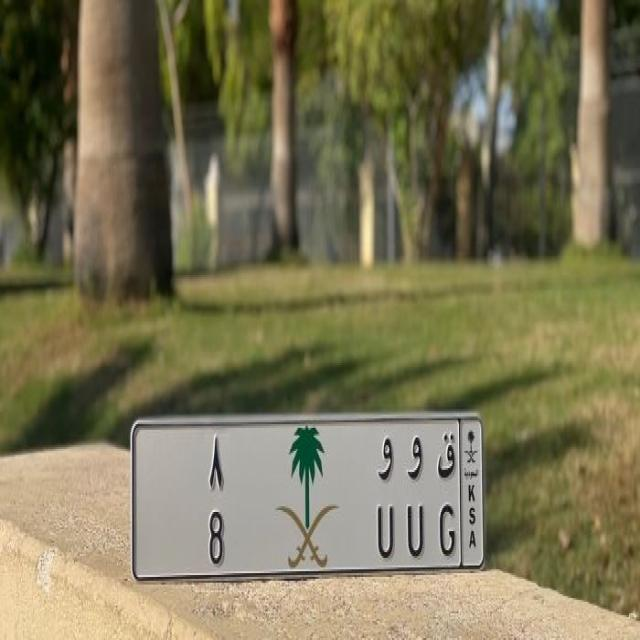license_plate: (183, 501, 458, 568)
